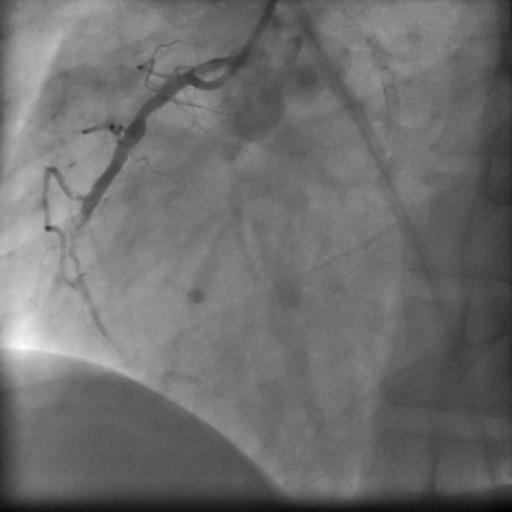Stenosis: (133, 100, 156, 126)
